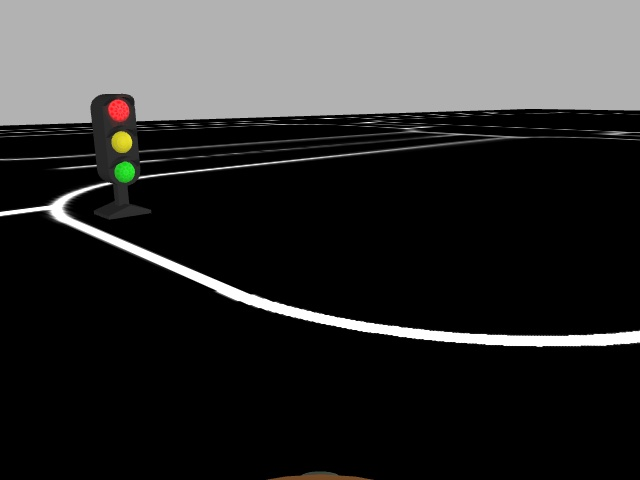red_light: (97, 94, 142, 185)
